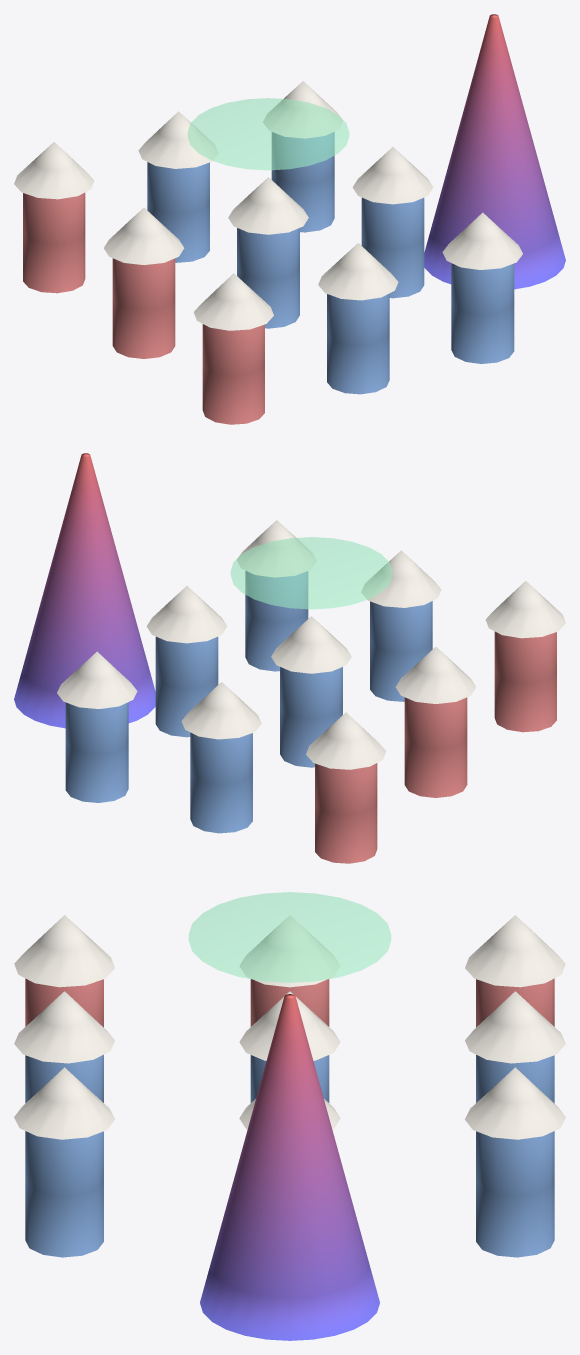
Rendered from demo_scene.glb.
3 renders of one model, top to bottom at view 1: azimuth 30°, elevation 25°; view 2: azimuth 150°, elevation 25°; view 3: azimuth 270°, elevation 25°, orthographic. The views are drawn at different scales.
Visible parts, largest first — view 1: obelisk, leader_marker, unit6_body, unit1_body, unit3_body, unit0_body, unit2_body, unit7_body, unit8_body, unit4_body, unit5_body, unit4_hat (+8 smaller); view 2: obelisk, leader_marker, unit8_body, unit1_body, unit5_body, unit0_body, unit2_body, unit7_body, unit6_body, unit4_body, unit3_body, unit4_hat (+8 smaller); view 3: obelisk, leader_marker, unit6_body, unit8_body, unit6_hat, unit8_hat, unit3_hat, unit5_hat, unit0_hat, unit2_hat, unit1_hat, unit4_hat (+6 smaller).
Part boxes in pixels (x1,y1,x2,y2): obelisk: (424, 14, 565, 289); leader_marker: (187, 98, 349, 170); unit6_body: (451, 263, 514, 363); unit1_body: (112, 258, 175, 358); unit3_body: (327, 293, 389, 394); unit0_body: (202, 324, 264, 424); unit2_body: (23, 192, 85, 293); unit7_body: (361, 197, 424, 298); unit8_body: (271, 132, 334, 232); unit4_body: (237, 228, 299, 328); unit5_body: (147, 162, 209, 262); unit4_hat: (228, 177, 308, 234); obelisk: (14, 453, 155, 728); leader_marker: (230, 537, 392, 609); unit8_body: (65, 702, 128, 802); unit1_body: (404, 697, 467, 797); unit5_body: (190, 732, 252, 833); unit0_body: (494, 631, 556, 732); unit2_body: (315, 763, 377, 863); unit7_body: (155, 636, 218, 737); unit6_body: (245, 571, 308, 671); unit4_body: (280, 667, 342, 767); unit3_body: (370, 601, 432, 701); unit4_hat: (271, 616, 351, 673); obelisk: (200, 994, 379, 1340); leader_marker: (188, 892, 391, 982); unit6_body: (25, 1131, 103, 1257); unit8_body: (476, 1131, 554, 1257); unit6_hat: (14, 1067, 114, 1139); unit8_hat: (465, 1067, 565, 1139); unit3_hat: (14, 991, 114, 1063); unit5_hat: (465, 991, 565, 1063); unit0_hat: (14, 915, 114, 987); unit2_hat: (465, 915, 565, 987); unit1_hat: (239, 915, 340, 987); unit4_hat: (239, 991, 340, 1060).
Size of what is drawn, in the model's own units: 5.75 by 3 by 4.9.
